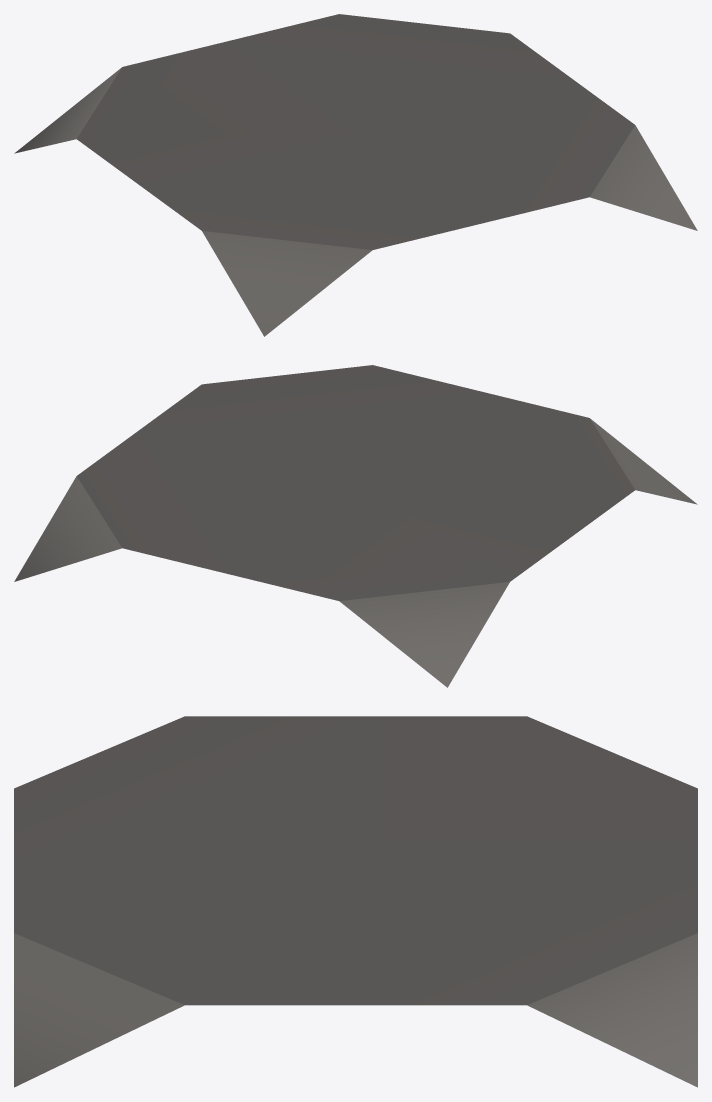
Rendered from AI_Env_Sewer_Roof_4Way.fbx.
The picture shows the model from 3 angles, top to bottom: view 1: azimuth 30°, elevation 25°; view 2: azimuth 150°, elevation 25°; view 3: azimuth 270°, elevation 25°; orthographic projection. The views are drawn at different scales.
Visible parts, largest first — view 1: AI_Env_Sewer_Roof_4Way; view 2: AI_Env_Sewer_Roof_4Way; view 3: AI_Env_Sewer_Roof_4Way.
Boxes of the visible parts, x1=… form: AI_Env_Sewer_Roof_4Way: x1=14, y1=14, x2=697, y2=336; AI_Env_Sewer_Roof_4Way: x1=14, y1=365, x2=697, y2=687; AI_Env_Sewer_Roof_4Way: x1=14, y1=716, x2=697, y2=1087.
Bounding box in the file's own units: 5 × 0.6645 × 5.
